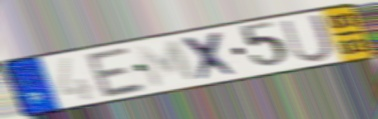4: (57, 55, 97, 102)
5: (236, 20, 291, 72)
E: (83, 44, 149, 100)
M: (133, 37, 200, 90)
U: (278, 11, 336, 64)
X: (179, 29, 243, 83)
